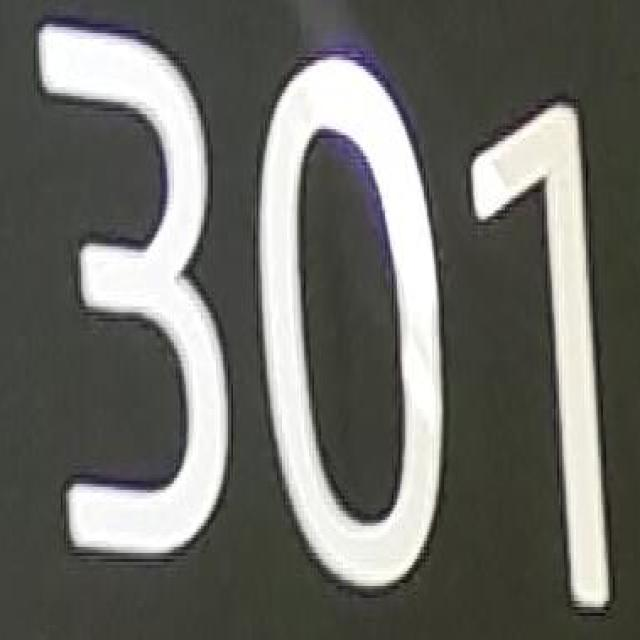character: (33, 11, 234, 572), (254, 44, 448, 600), (464, 88, 619, 620)
